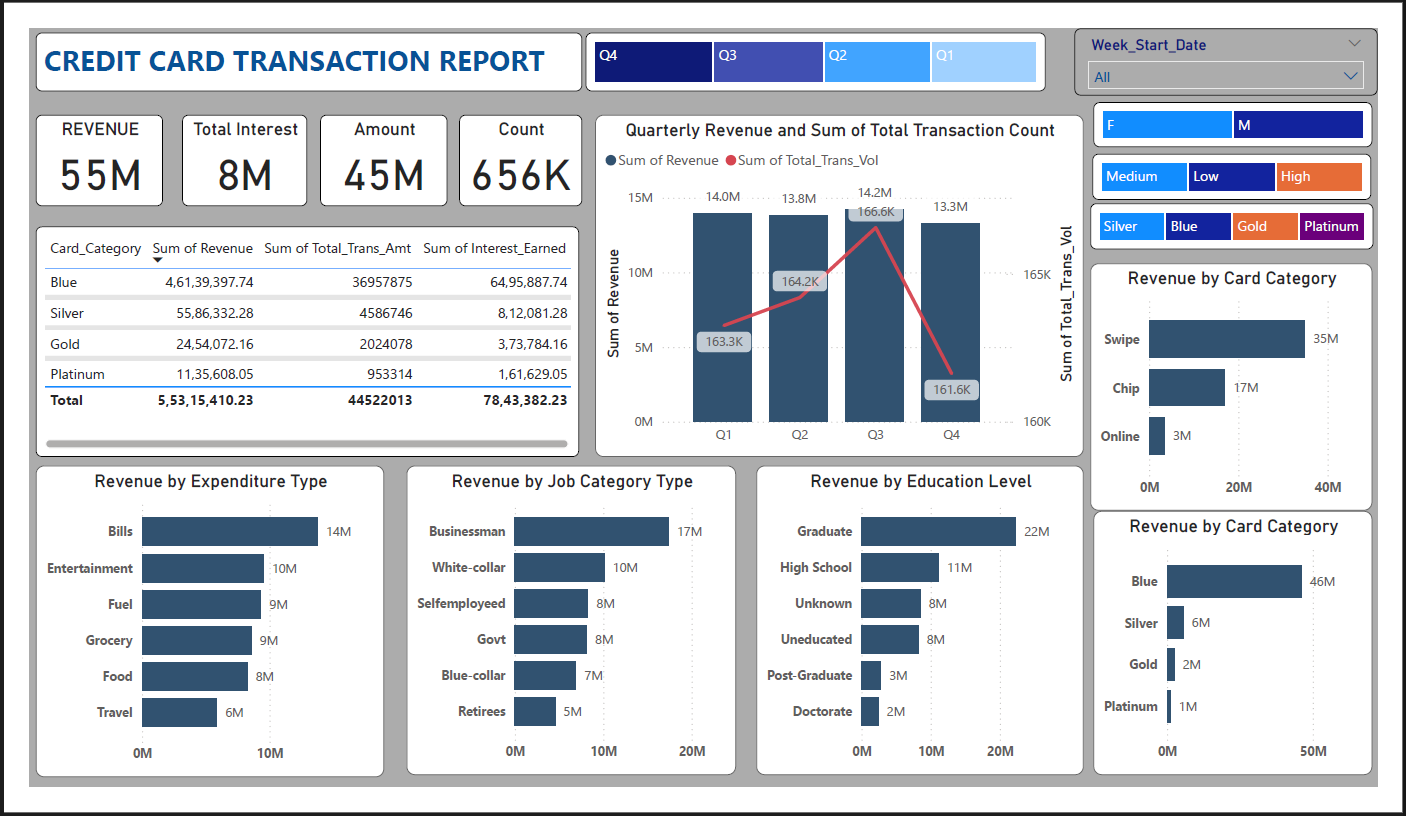

The dashboard page shown, as its layout file describes it:
{"tool":"powerbi","page":{"name":"CC Transaction","canvas":[1280,720],"ordinal":1},"visuals":[{"type":"lineStackedColumnComboChart","title":"Quarterly Revenue and Sum of Total Transaction Count","fields":{"Category":["credit_card.Qtr"],"Y":["Sum(credit_card.Revenue)"],"Y2":["Sum(credit_card.Total_Trans_Vol)"]},"box":[536.9,82,464.5,324.5],"z":0},{"type":"textbox","box":[6,3.6,518.8,56.7],"z":1000},{"type":"clusteredBarChart","title":"Revenue by Expenditure Type","fields":{"Y":["Sum(credit_card.Revenue)"],"Category":["credit_card.Exp Type"]},"box":[6,415,330.6,295.6],"z":2000},{"type":"clusteredBarChart","title":"Revenue by Job Category Type","fields":{"Y":["Sum(credit_card.Revenue)"],"Category":["customer.Customer_Job"]},"box":[358.3,415,312.5,294.4],"z":3000},{"type":"clusteredBarChart","title":"Revenue by Education Level","fields":{"Y":["Sum(credit_card.Revenue)"],"Category":["customer.Education_Level"]},"box":[690.1,415,311.3,294.4],"z":4000},{"type":"tableEx","title":"Revenue by Card Category","fields":{"Values":["credit_card.Card_Category","Sum(credit_card.Revenue)","Sum(credit_card.Total_Trans_Amt)","Sum(credit_card.Interest_Earned)"]},"box":[6,188.2,516.4,218.4],"z":5000},{"type":"clusteredBarChart","title":"Revenue by Card Category","fields":{"Y":["Sum(credit_card.Revenue)"],"Category":["credit_card.Use Chip"]},"box":[1007.4,223.2,267.8,235.3],"z":6000},{"type":"clusteredBarChart","title":"Revenue by Card Category","fields":{"Y":["Sum(credit_card.Revenue)"],"Category":["credit_card.Card_Category"]},"box":[1009.8,458.4,265.4,250.9],"z":7000},{"type":"card","title":"REVENUE","fields":{"Values":["Sum(credit_card.Revenue)"]},"box":[6,82,120.6,86.9],"z":8000},{"type":"card","title":"Count","fields":{"Values":["Sum(credit_card.Total_Trans_Vol)"]},"box":[407.8,82,117,86.9],"z":9000},{"type":"card","title":"Amount","fields":{"Values":["Sum(credit_card.Total_Trans_Amt)"]},"box":[276.3,82,120.6,86.9],"z":10000},{"type":"card","title":"Total Interest","fields":{"Values":["Sum(credit_card.Interest_Earned)"]},"box":[144.8,82,119.4,86.9],"z":11000},{"type":"treemap","fields":{"Group":["credit_card.Qtr"],"Values":["Avg(credit_card.Client_Num)"]},"box":[528.4,3.6,436.7,56.7],"z":12000},{"type":"slicer","fields":{"Values":["credit_card.Week_Start_Date"]},"box":[991.7,0,288.3,63.9],"z":13000},{"type":"treemap","fields":{"Values":["Avg(credit_card.Client_Num)"],"Group":["customer.Gender"]},"box":[1009.8,70,265.4,43.4],"z":14000},{"type":"treemap","fields":{"Values":["Avg(credit_card.Client_Num)"],"Group":["customer.IncomeGroup"]},"box":[1008.6,119.4,265.4,43.4],"z":15000},{"type":"treemap","fields":{"Values":["Avg(credit_card.Client_Num)"],"Group":["credit_card.Card_Category"]},"box":[1007.4,166.5,269,43.4],"z":16000}]}

Visuals, with their boxes on the page's 1280x720 design canvas (x1, y1, x2, y2). These are canvas units, not pixel positions in the 1406x816 screenshot, which may show the page scaled, cropped or inside an application window:
"Quarterly Revenue and Sum of Total Transaction Count" lineStackedColumnComboChart: box(537, 82, 1001, 406)
textbox: box(6, 4, 525, 60)
"Revenue by Expenditure Type" clusteredBarChart: box(6, 415, 337, 711)
"Revenue by Job Category Type" clusteredBarChart: box(358, 415, 671, 709)
"Revenue by Education Level" clusteredBarChart: box(690, 415, 1001, 709)
"Revenue by Card Category" tableEx: box(6, 188, 522, 407)
"Revenue by Card Category" clusteredBarChart: box(1007, 223, 1275, 458)
"Revenue by Card Category" clusteredBarChart: box(1010, 458, 1275, 709)
"REVENUE" card: box(6, 82, 127, 169)
"Count" card: box(408, 82, 525, 169)
"Amount" card: box(276, 82, 397, 169)
"Total Interest" card: box(145, 82, 264, 169)
treemap - credit_card.Qtr x Avg(credit_card.Client_Num): box(528, 4, 965, 60)
slicer - credit_card.Week_Start_Date: box(992, 0, 1280, 64)
treemap - Avg(credit_card.Client_Num) x customer.Gender: box(1010, 70, 1275, 113)
treemap - Avg(credit_card.Client_Num) x customer.IncomeGroup: box(1009, 119, 1274, 163)
treemap - Avg(credit_card.Client_Num) x credit_card.Card_Category: box(1007, 166, 1276, 210)
